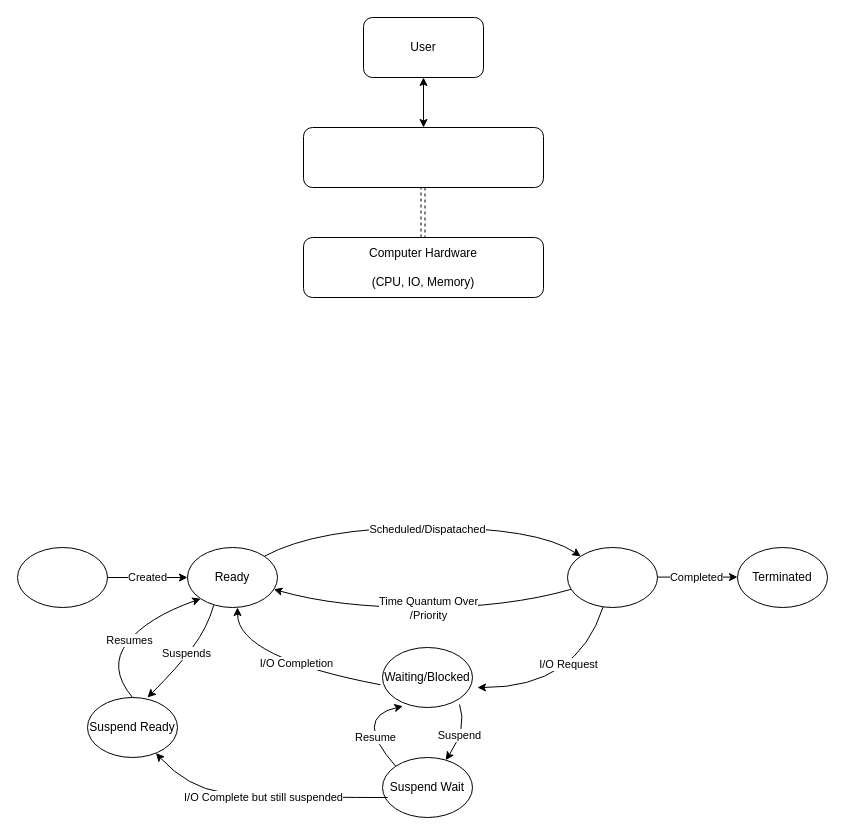
The diagram is 845 pixels wide and 835 high, and some of its shapes have lost their labels. Here are the shapes that lost their labels. From the top down, the centre of each, then its label:
At point (423, 157): "OS".
At point (62, 577): "New".
At point (612, 577): "Running".
